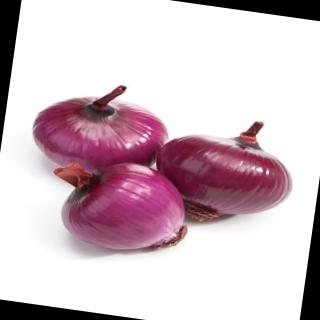Bawang Merah: (147, 104, 305, 235), (40, 151, 198, 264)
